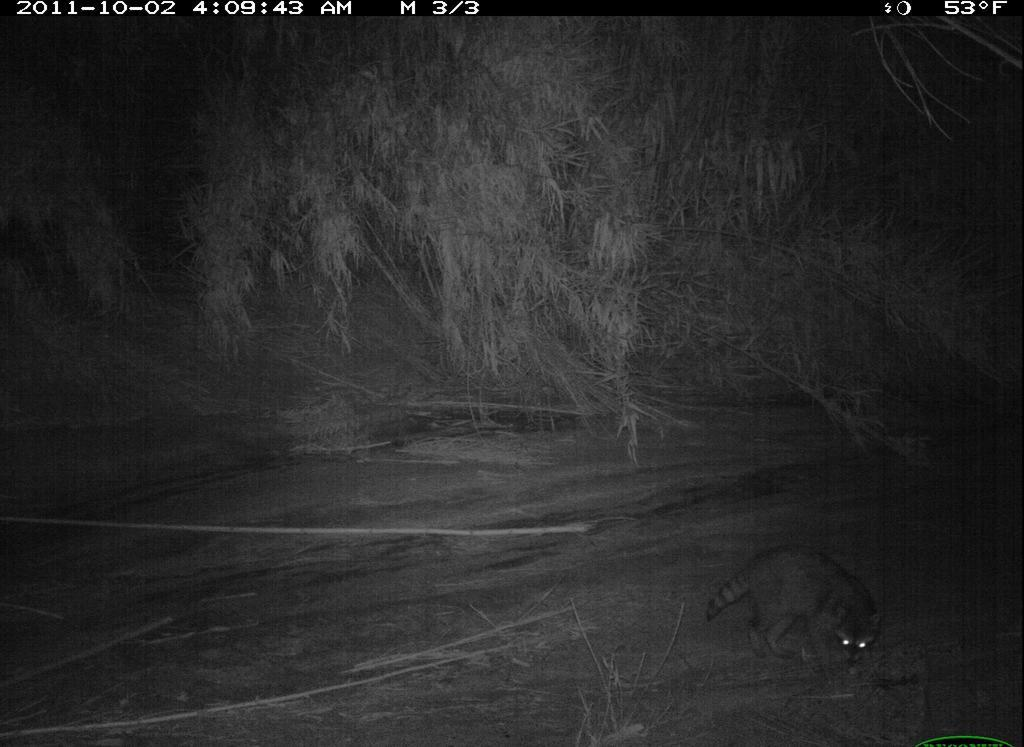raccoon: (698, 537, 895, 687)
